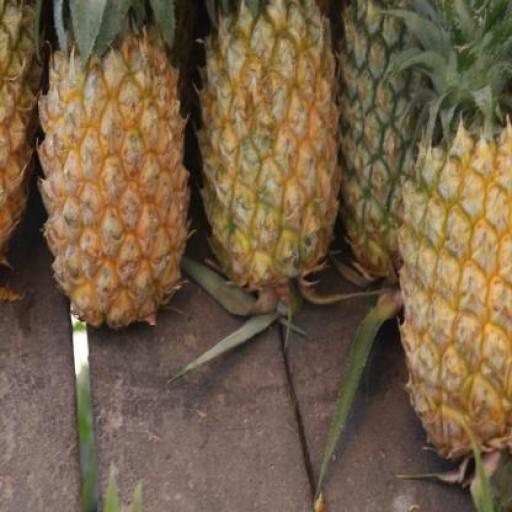------------------------------: (198, 0, 342, 283)
Pineapple - v8 v1: (38, 26, 188, 326), (400, 139, 512, 455)
